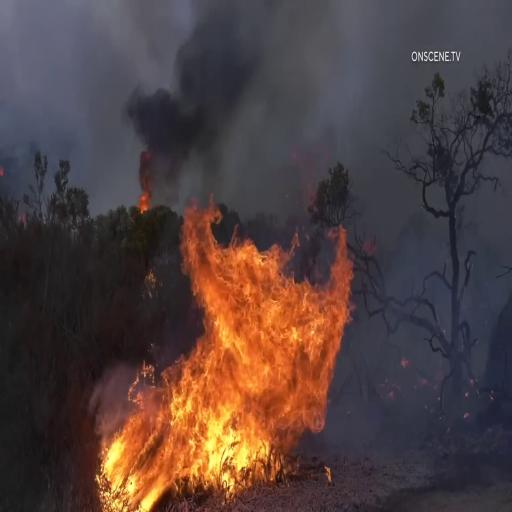fire: (175, 212, 351, 484), (93, 361, 181, 512)
smoke: (142, 17, 259, 162)
